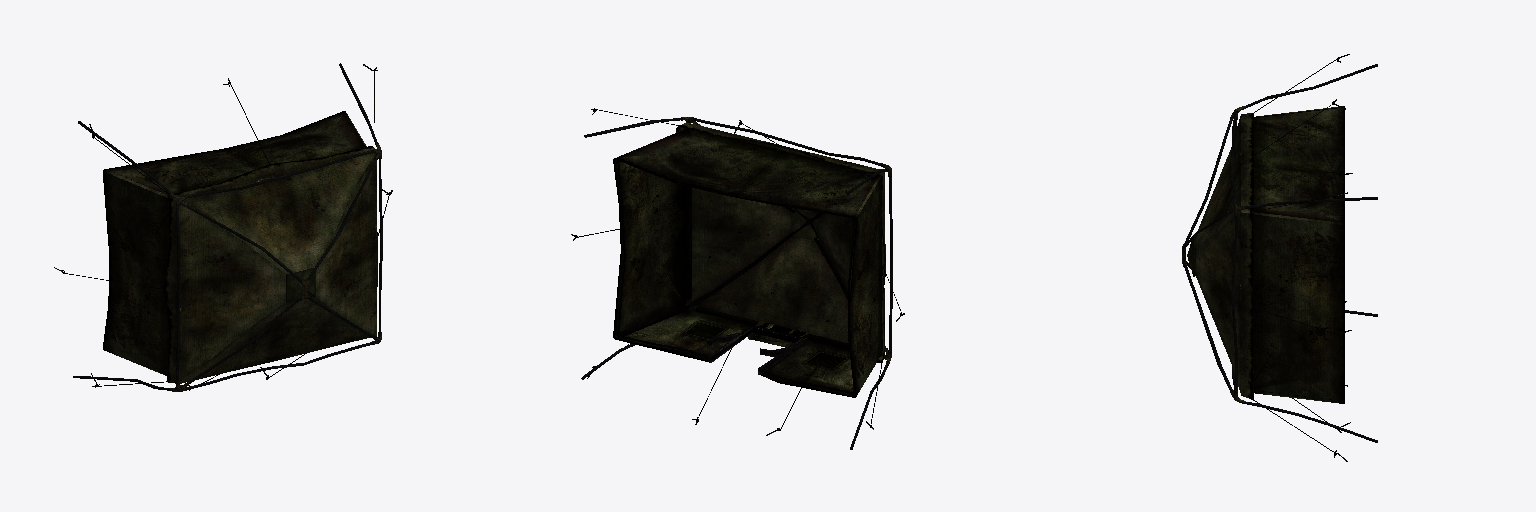
The picture shows the model from 3 angles: view 1: azimuth 30°, elevation 25°; view 2: azimuth 150°, elevation 25°; view 3: azimuth 270°, elevation 25°; orthographic projection.
Parts seen in each view (by area): view 1: tent_exterior, tent_interior; view 2: tent_interior, tent_exterior; view 3: tent_exterior, tent_interior.
Part boxes in pixels (x1,y1,x2,y2): tent_exterior: (54,63,392,391); tent_interior: (103,111,365,356); tent_interior: (614,128,882,397); tent_exterior: (571,108,904,449); tent_exterior: (1182,54,1377,461); tent_interior: (1254,106,1344,400).
Bounding box in the file's own units: 7.94 × 7.12 × 4.06.
Materials: 2 (2 with a texture image).